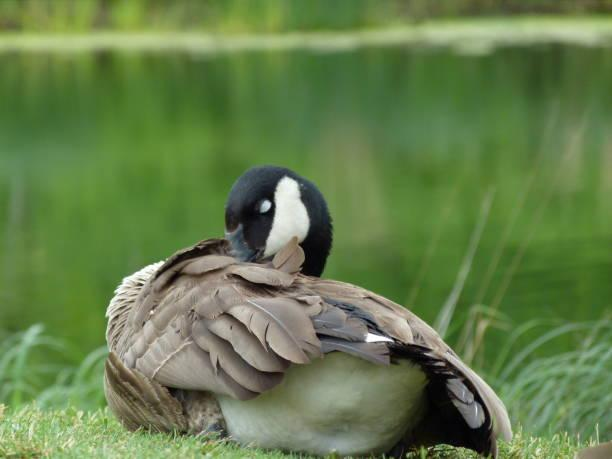Canadian-Goose: (104, 165, 513, 459)
